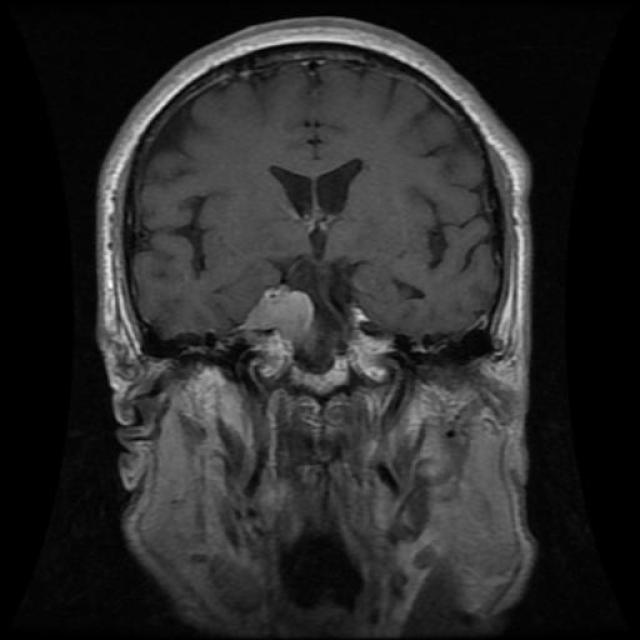meningioma: (244, 285, 315, 336)
